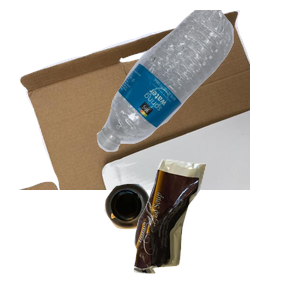cardboard: (16, 10, 256, 190)
glass: (102, 181, 246, 300)
plastic: (94, 10, 300, 154)
trash: (131, 157, 300, 300)
